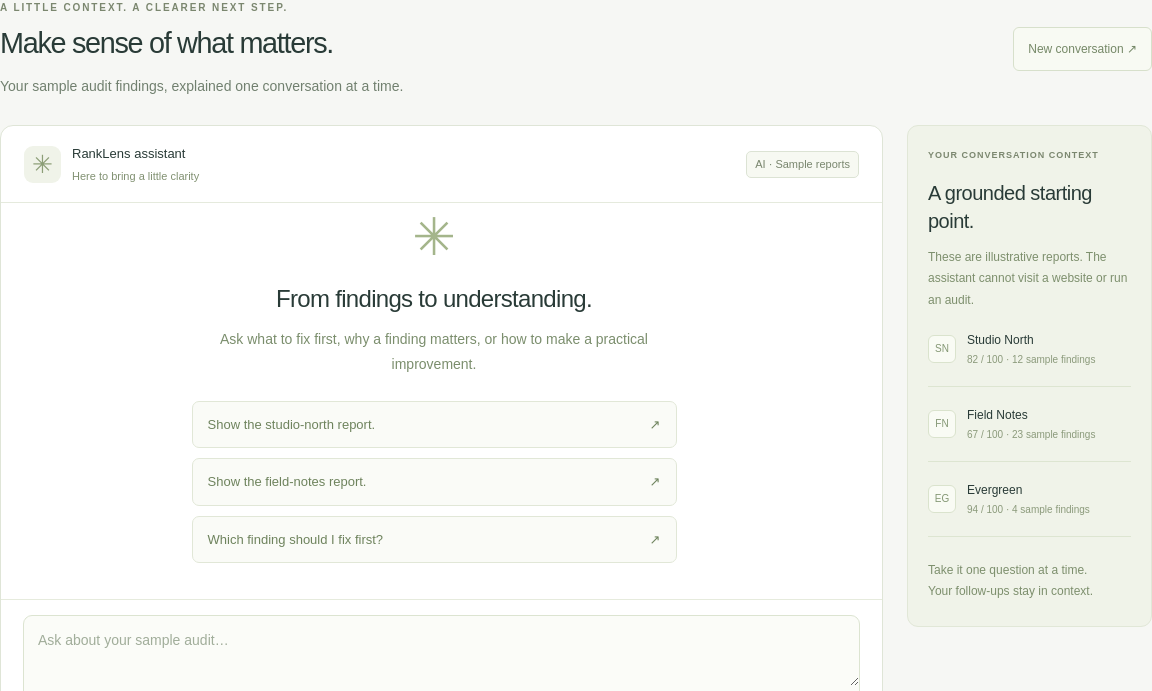
Test: turns malformed tool data into a readable retry error without dumping schema internals
(page scrolled)
Step 1. Type "Show the report" into the text box named "Ask about the sample audit" → x=442, y=651, box [24,616,859,686]
(page scrolled)
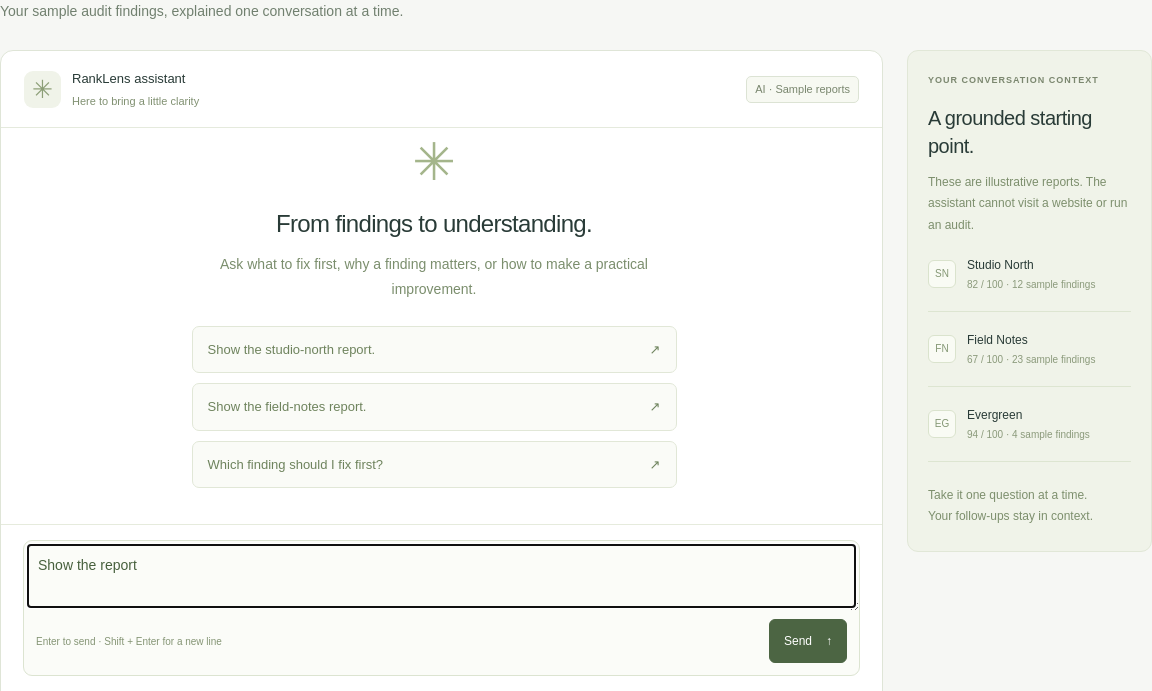
Step 2. Click the button "Send ↑" → x=808, y=641, box [769,619,847,663]
(page scrolled)
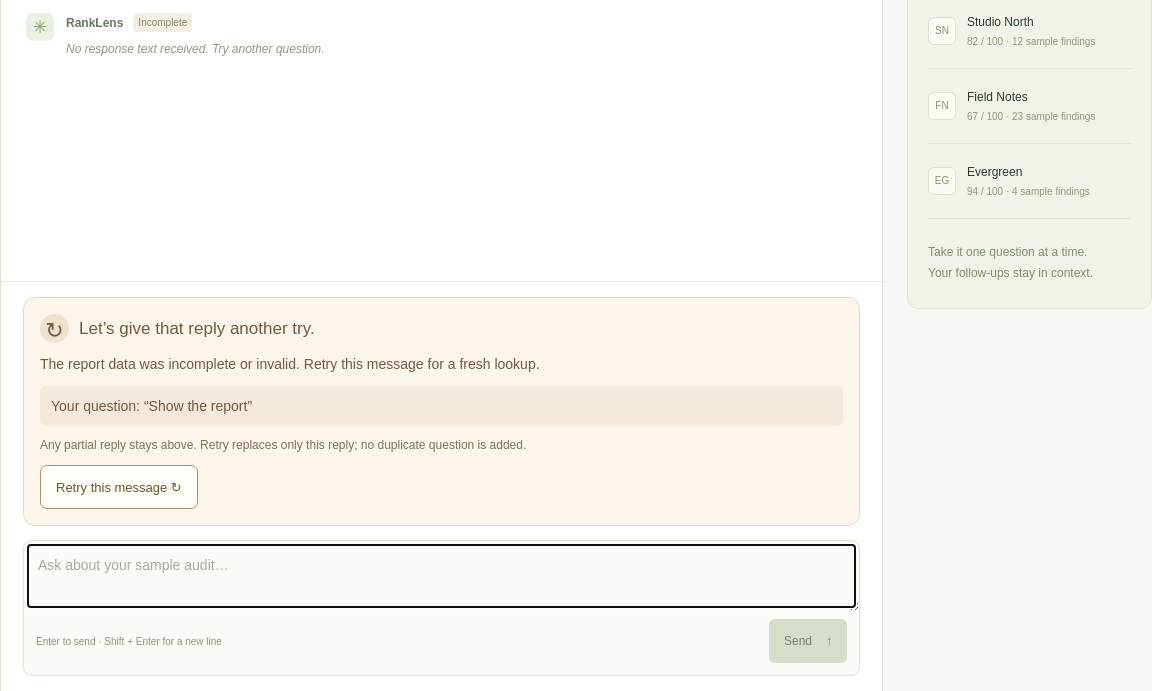
Expected: the message does not show "Zod", [23,297,860,526]
Expected: the message shows "report data was incomplete or invalid", [40,356,540,372]
Expected: the button "Retry this message ↻" is enabled, [40,465,198,509]
